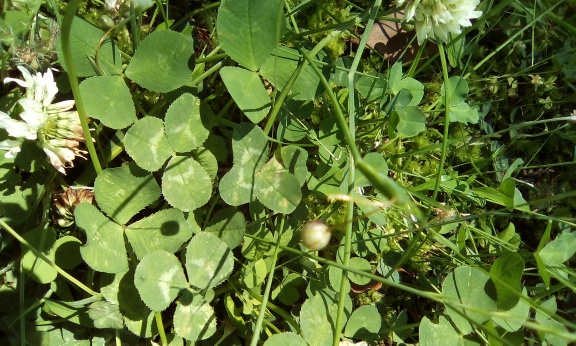4leaf: (217, 120, 309, 216)
